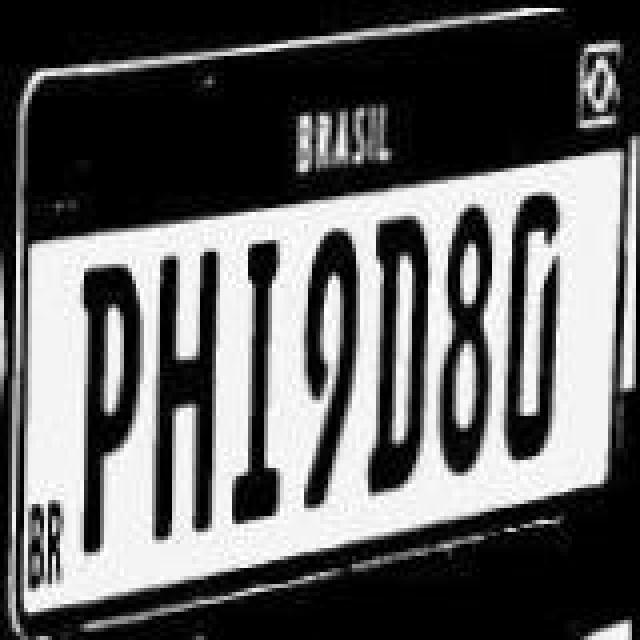8: (434, 202, 510, 482)
9: (288, 224, 368, 504)
D: (360, 212, 448, 500), (494, 186, 578, 466)
H: (152, 248, 224, 540)
I: (224, 234, 288, 526)
P: (74, 260, 142, 560)
